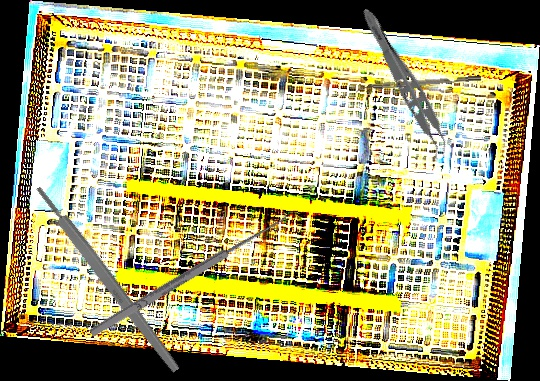Chopper: (355, 75, 482, 96)
Hook Surgical: (83, 202, 291, 341)
Scalpel Handle: (33, 183, 182, 375)
Tissue Forceps: (348, 5, 459, 163)
